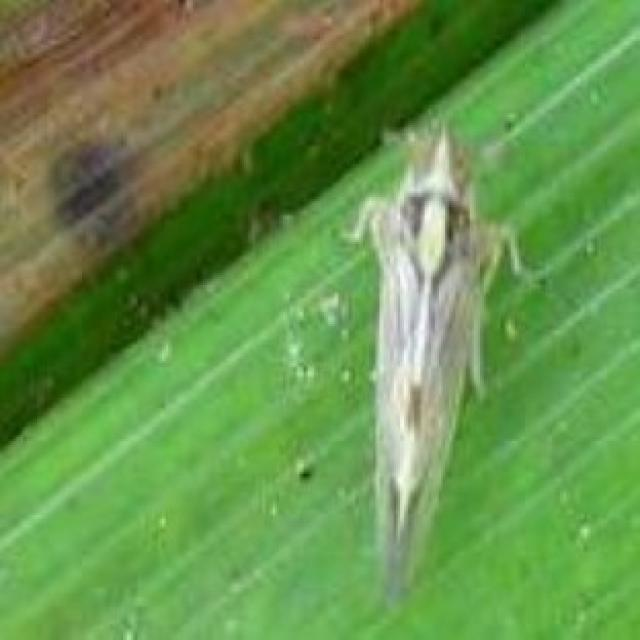brown plant hopper: (353, 125, 519, 595)
